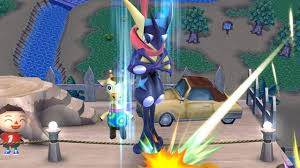greninja: (123, 1, 181, 157)
